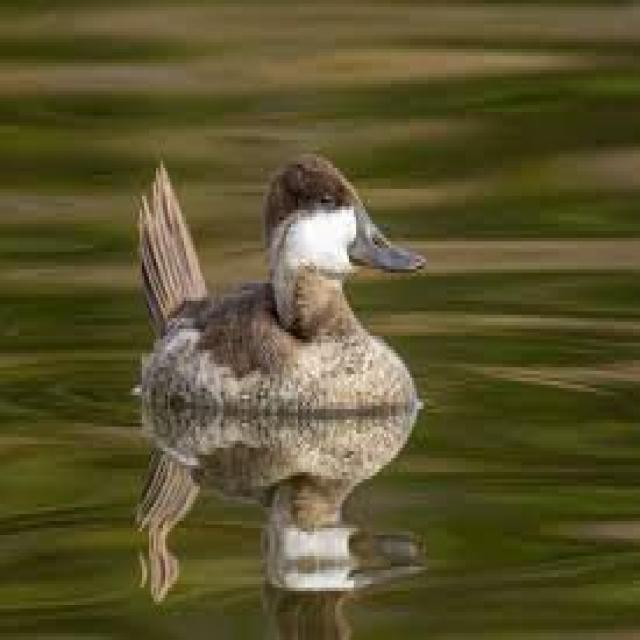Duck: (130, 140, 430, 594)
